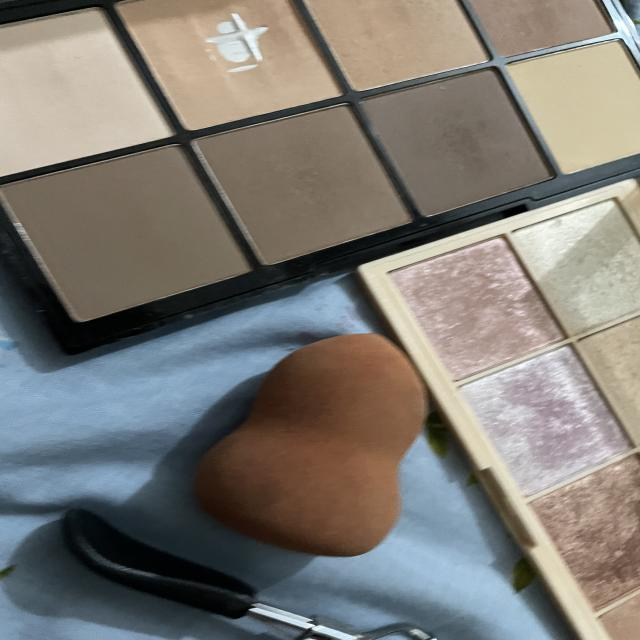beauty blender: (175, 336, 432, 564)
bronzer: (0, 0, 301, 339), (254, 0, 640, 212)
eyelash curler: (49, 505, 459, 640)
highlighter: (432, 338, 638, 482), (377, 250, 562, 373), (485, 199, 640, 341)
